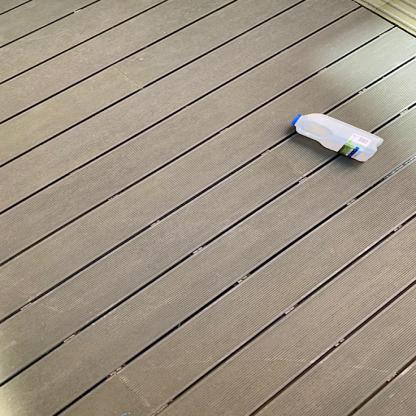trash: (290, 111, 388, 164)
